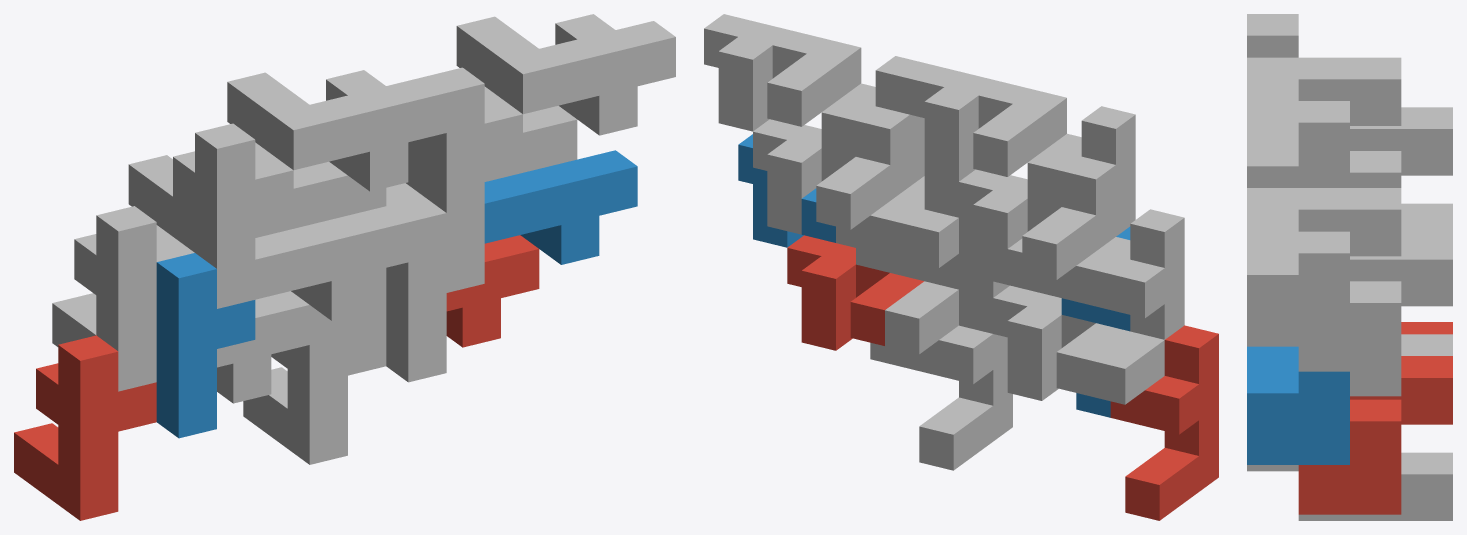
Rendered from tiling.obj.
3 renders of one model, left to right at view 1: azimuth 30°, elevation 25°; view 2: azimuth 150°, elevation 25°; view 3: azimuth 270°, elevation 25°, orthographic. The views are drawn at different scales.
Parts seen in each view (by area): view 1: copy_2_domain_4, copy_2_domain_8, copy_1_domain_1, copy_1_domain_3, copy_1_domain_4, copy_1_domain_2, copy_1_domain_5, copy_2_domain_6, copy_2_domain_2, copy_1_domain_6, copy_1_domain_8, copy_2_domain_3 (+4 smaller); view 2: copy_1_domain_3, copy_2_domain_8, copy_2_domain_4, copy_1_domain_1, copy_1_domain_5, copy_1_domain_7, copy_2_domain_7, copy_2_domain_3, copy_1_domain_4, copy_2_domain_5, copy_2_domain_1, copy_1_domain_8 (+4 smaller); view 3: copy_2_domain_8, copy_2_domain_4, copy_2_domain_5, copy_2_domain_7, copy_2_domain_6, copy_2_domain_3, copy_1_domain_5, copy_1_domain_4, copy_1_domain_8, copy_1_domain_3, copy_1_domain_7, copy_1_domain_1 (+2 smaller).
Boxes of the visible parts, x1,y1,x2,y2 form: copy_2_domain_4: [227, 70, 446, 191]; copy_2_domain_8: [456, 14, 675, 135]; copy_1_domain_1: [14, 335, 156, 520]; copy_1_domain_3: [52, 206, 194, 391]; copy_1_domain_4: [173, 123, 293, 308]; copy_1_domain_2: [156, 253, 255, 438]; copy_1_domain_5: [243, 305, 386, 464]; copy_2_domain_6: [484, 150, 637, 264]; copy_2_domain_2: [255, 206, 408, 320]; copy_1_domain_6: [386, 197, 484, 382]; copy_1_domain_8: [408, 67, 522, 252]; copy_2_domain_3: [128, 155, 347, 252]; copy_1_domain_3: [1076, 209, 1184, 404]; copy_2_domain_8: [704, 14, 861, 131]; copy_2_domain_4: [910, 64, 1066, 181]; copy_1_domain_1: [1110, 325, 1218, 520]; copy_1_domain_5: [904, 289, 1012, 470]; copy_1_domain_7: [870, 173, 958, 354]; copy_2_domain_7: [753, 119, 909, 234]; copy_2_domain_3: [959, 169, 1115, 284]; copy_1_domain_4: [1027, 106, 1135, 301]; copy_2_domain_5: [787, 235, 923, 350]; copy_2_domain_1: [993, 285, 1129, 400]; copy_1_domain_8: [821, 56, 929, 251]; copy_2_domain_8: [1247, 188, 1401, 346]; copy_2_domain_4: [1247, 57, 1401, 187]; copy_2_domain_5: [1298, 356, 1452, 514]; copy_2_domain_7: [1298, 238, 1452, 396]; copy_2_domain_6: [1247, 346, 1349, 464]; copy_2_domain_3: [1350, 107, 1452, 187]; copy_1_domain_5: [1298, 452, 1452, 520]; copy_1_domain_4: [1247, 14, 1298, 57]; copy_1_domain_8: [1247, 144, 1298, 187]; copy_1_domain_3: [1401, 203, 1452, 225]; copy_1_domain_7: [1401, 334, 1452, 355]; copy_1_domain_1: [1401, 322, 1452, 334].
Bounding box in the file's own units: 15 × 9 × 4.
